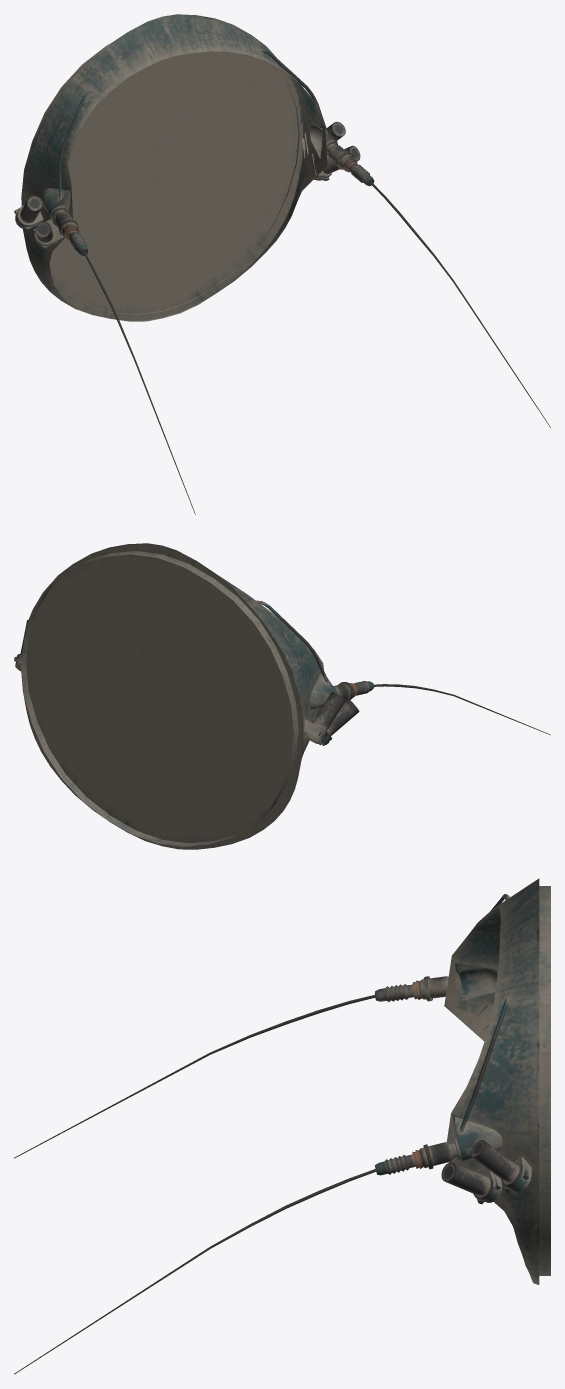
The model's file is Turret_01.glb.
The picture shows the model from 3 angles, top to bottom: view 1: azimuth 30°, elevation 25°; view 2: azimuth 150°, elevation 25°; view 3: azimuth 270°, elevation 25°; orthographic projection. The views are drawn at different scales.
Parts seen in each view (by area): view 1: set_0_group_0; view 2: set_0_group_0; view 3: set_0_group_0.
Boxes of the visible parts, x1,y1,x2,y2 form: set_0_group_0: (14, 14, 550, 514); set_0_group_0: (14, 543, 550, 849); set_0_group_0: (14, 878, 550, 1374).
Bounding box in the file's own units: 2.15 × 1.74 × 2.26.
1 material, 1 textured.
